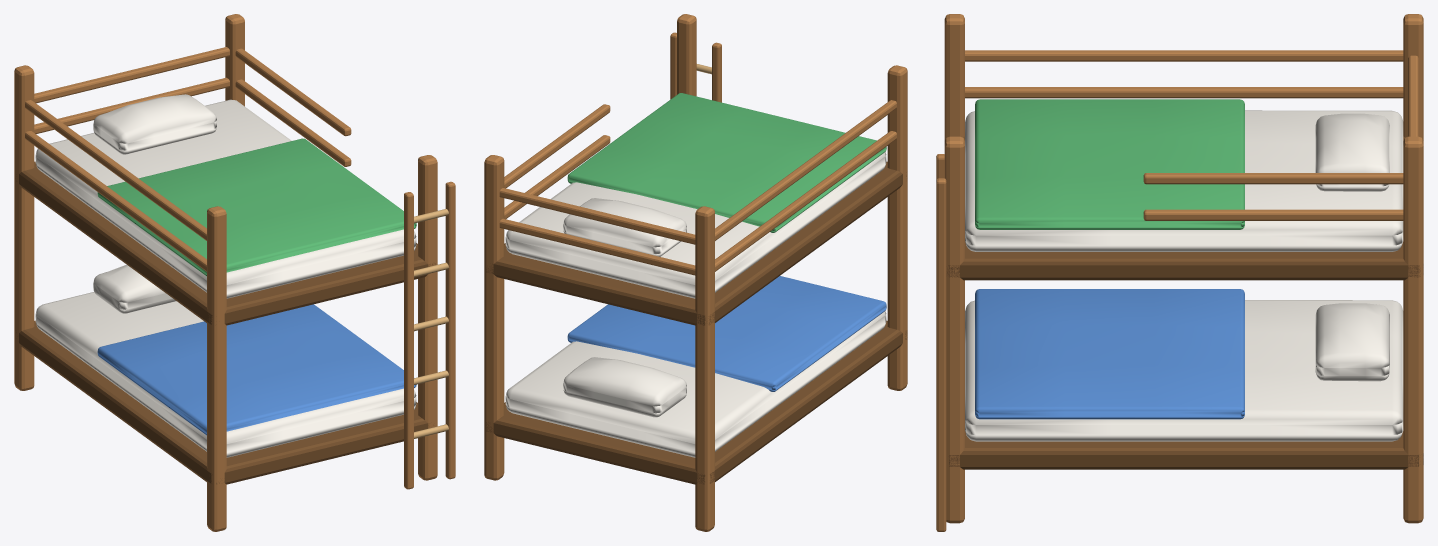
File: beliche.glb
3 views of the same model, side by side, from view 1: azimuth 30°, elevation 25°; view 2: azimuth 150°, elevation 25°; view 3: azimuth 270°, elevation 25° (orthographic). The views are drawn at different scales.
Parts seen in each view (by area): view 1: beliche; view 2: beliche; view 3: beliche.
Part boxes in pixels (x1,y1,x2,y2): beliche: (14,14,455,531); beliche: (484,14,907,531); beliche: (936,14,1423,531).
Size of the model in its own units: 1.95 by 2.5 by 2.89.
